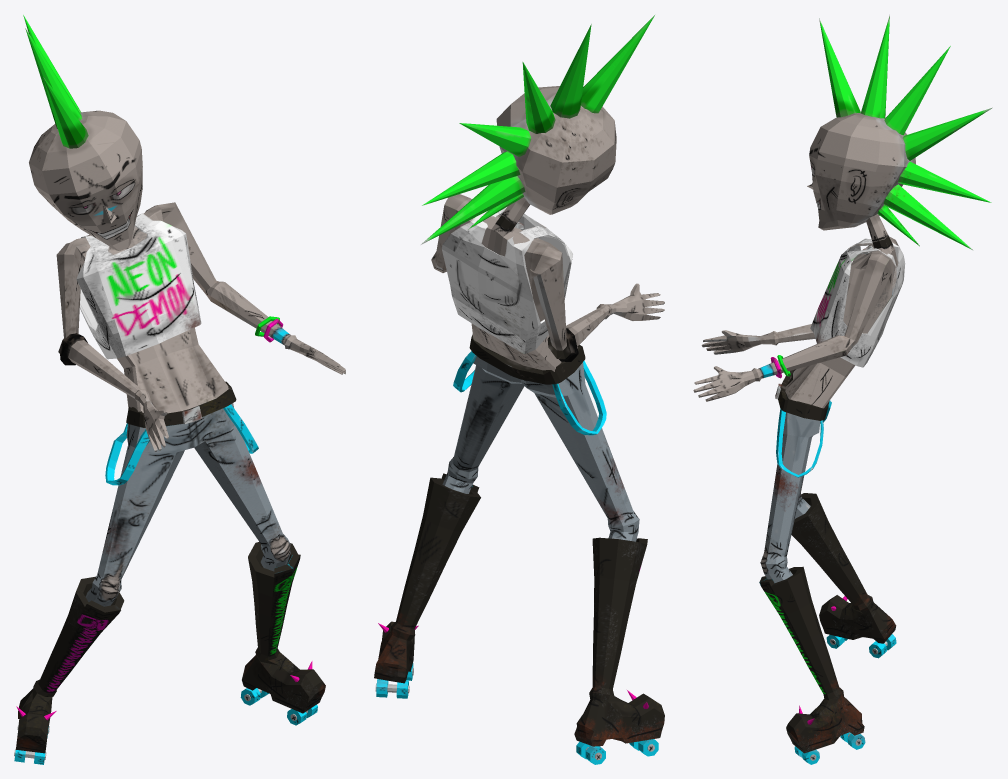
File: punkAnimation_000060.obj
3 views of the same model, side by side, from view 1: azimuth 30°, elevation 25°; view 2: azimuth 150°, elevation 25°; view 3: azimuth 270°, elevation 25° (orthographic). The views are drawn at different scales.
Visible parts, largest first — view 1: Cube.004_Cube.003; view 2: Cube.004_Cube.003; view 3: Cube.004_Cube.003.
Part boxes in pixels (<box>): Cube.004_Cube.003: <box>14,15,345,764</box>; Cube.004_Cube.003: <box>374,15,664,764</box>; Cube.004_Cube.003: <box>693,15,992,764</box>.
Size of the model in its own units: 2.96 by 7.03 by 2.97.
